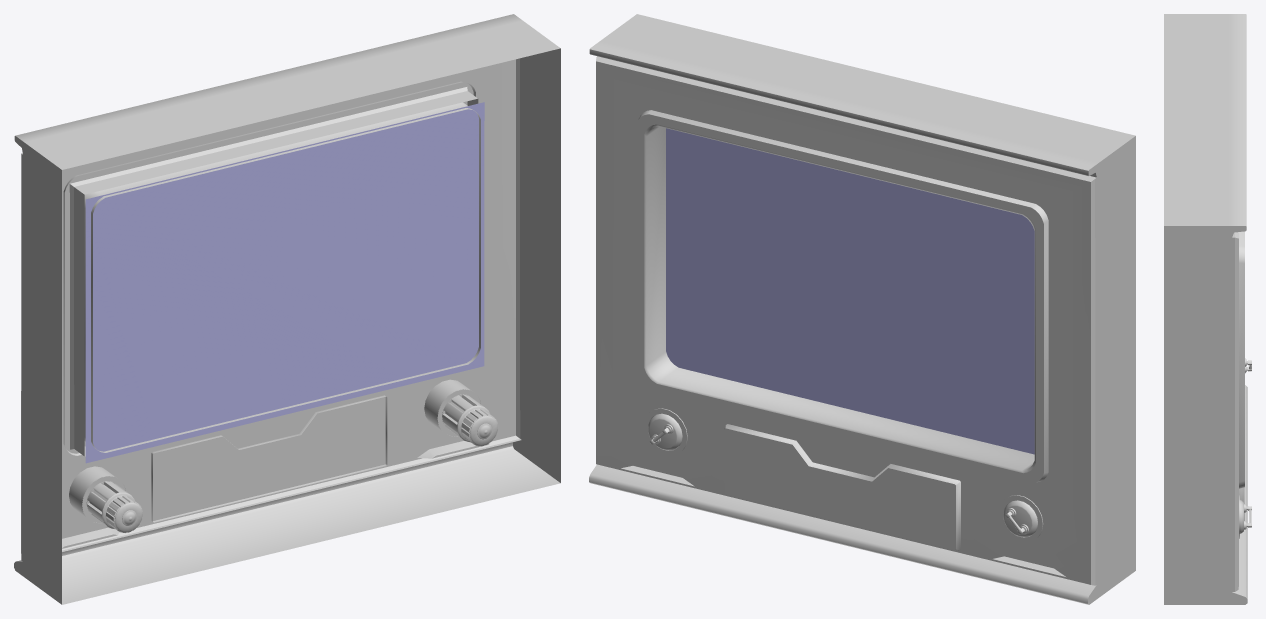
File: pared16.fbx
The picture shows the model from 3 angles, left to right: view 1: azimuth 30°, elevation 25°; view 2: azimuth 150°, elevation 25°; view 3: azimuth 270°, elevation 25°; orthographic projection. The views are drawn at different scales.
Parts seen in each view (by area): view 1: 16; view 2: 16; view 3: 16.
Part boxes in pixels (bbox=[...]): 16: bbox=[14, 14, 560, 604]; 16: bbox=[589, 14, 1135, 604]; 16: bbox=[1164, 14, 1251, 604].
Bounding box in the file's own units: 300 × 250 × 52.55.
